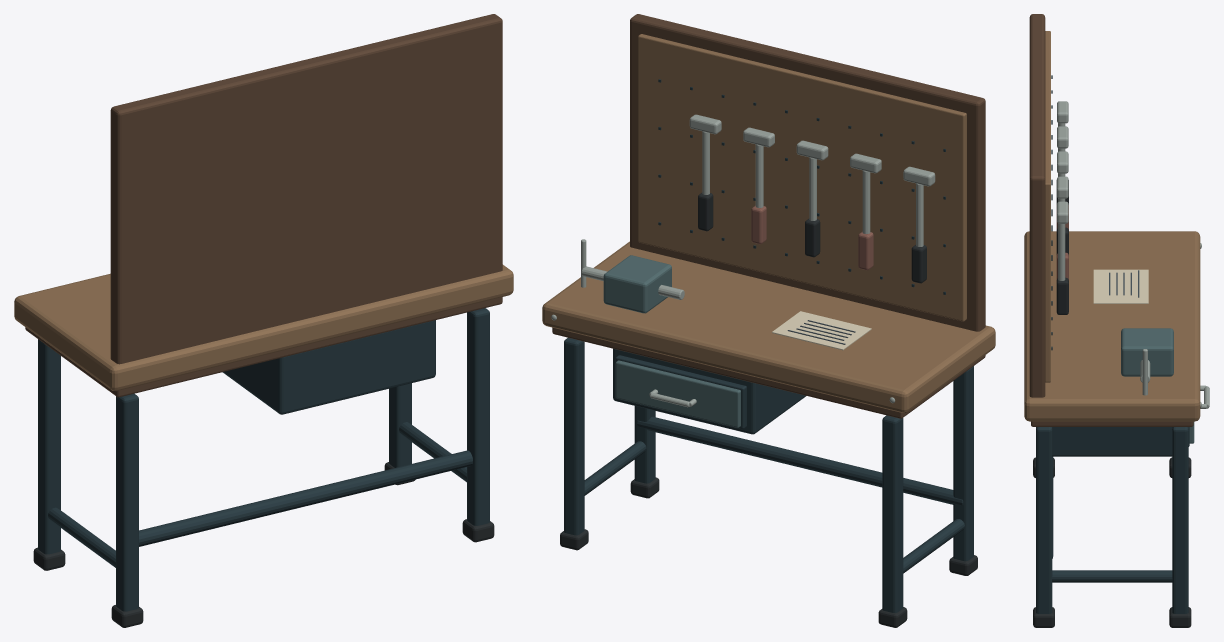
The model's file is bench.fbx.
The picture shows the model from 3 angles, left to right: view 1: azimuth 30°, elevation 25°; view 2: azimuth 150°, elevation 25°; view 3: azimuth 270°, elevation 25°; orthographic projection. The views are drawn at different scales.
Parts seen in each view (by area): view 1: bench; view 2: bench; view 3: bench.
Boxes of the visible parts, bbox=[...] form: bench: bbox=[14, 14, 513, 627]; bench: bbox=[542, 14, 995, 627]; bench: bbox=[1024, 14, 1209, 627].
Bounding box in the file's own units: 185 × 228 × 84.3.
